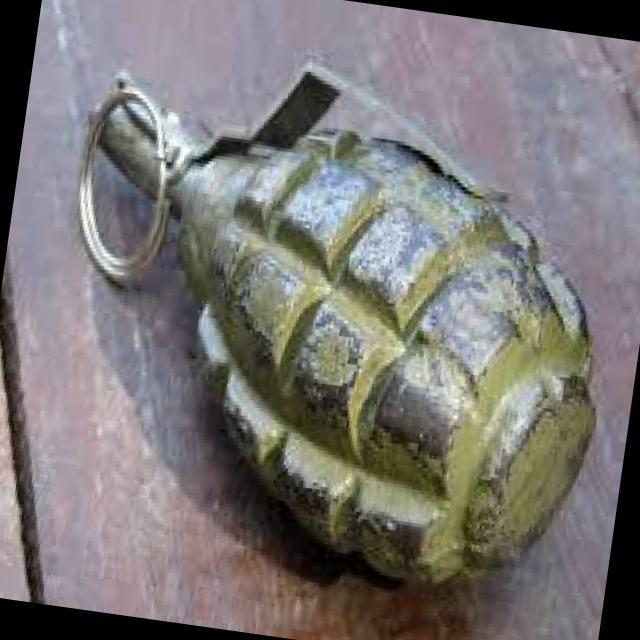grenade: (28, 22, 640, 618)
